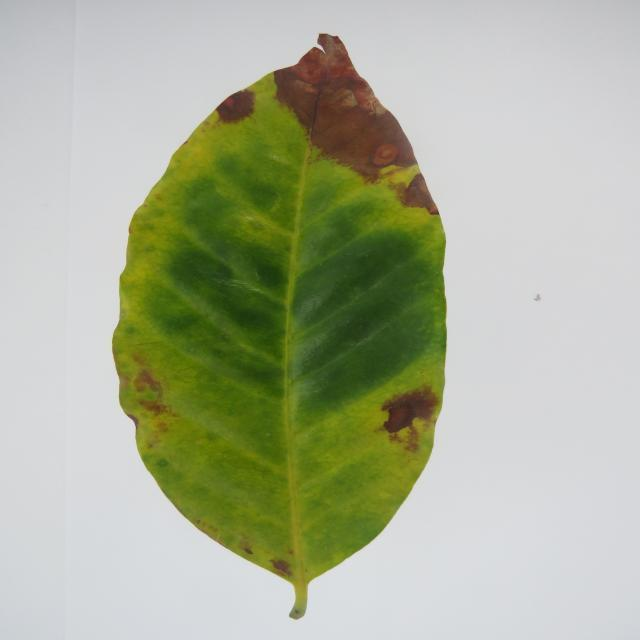DeficienciaNutricional-Potasio: (113, 35, 445, 619)
